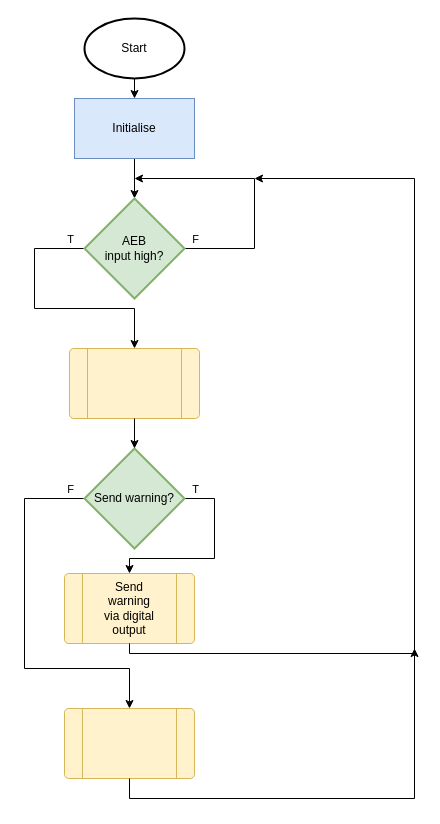
The diagram is 440 pixels wide and 824 high, and some of its shapes have lost their labels. Each missing label, with the centre of its shape:
"Output to 8-bit DAC" belongs at (129,743).
"Take measurements" belongs at (134,383).
